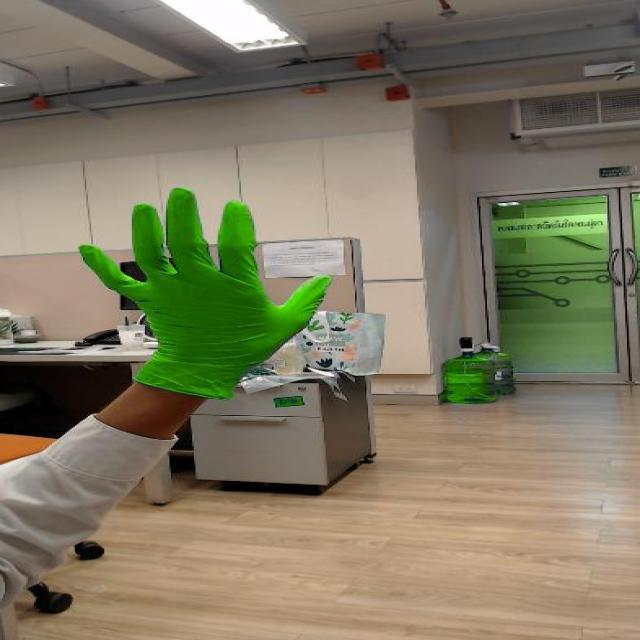gloved_hand: (70, 180, 342, 367)
